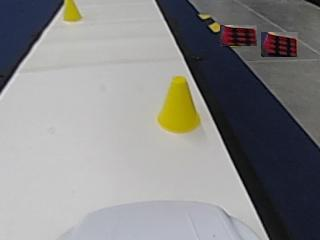cone: (157, 79, 200, 134), (62, 1, 82, 21)
